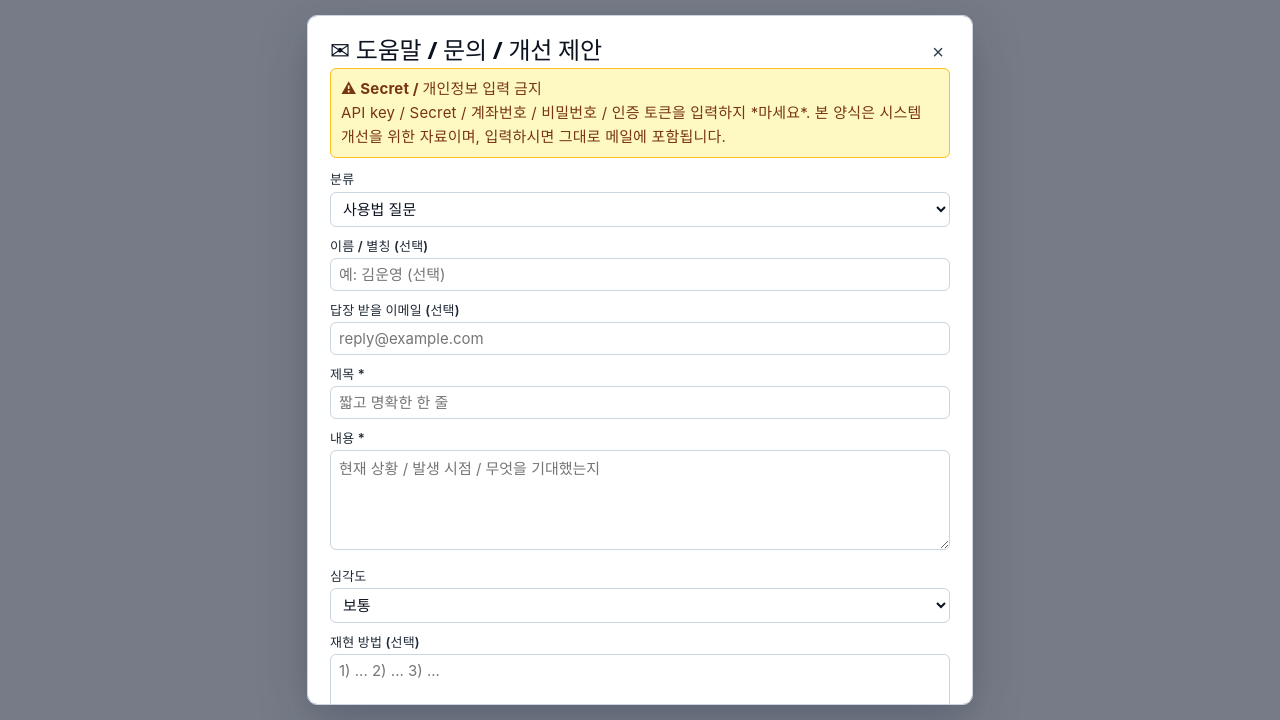
<FeedbackModal> › shows secret-detected banner when input matches secret pattern
Type "my key sk-ant-abc123def456ghi789jkl0 leaked" into the text box with test id "feedback-body" at [640, 500], box left=330, top=450, right=950, bottom=550
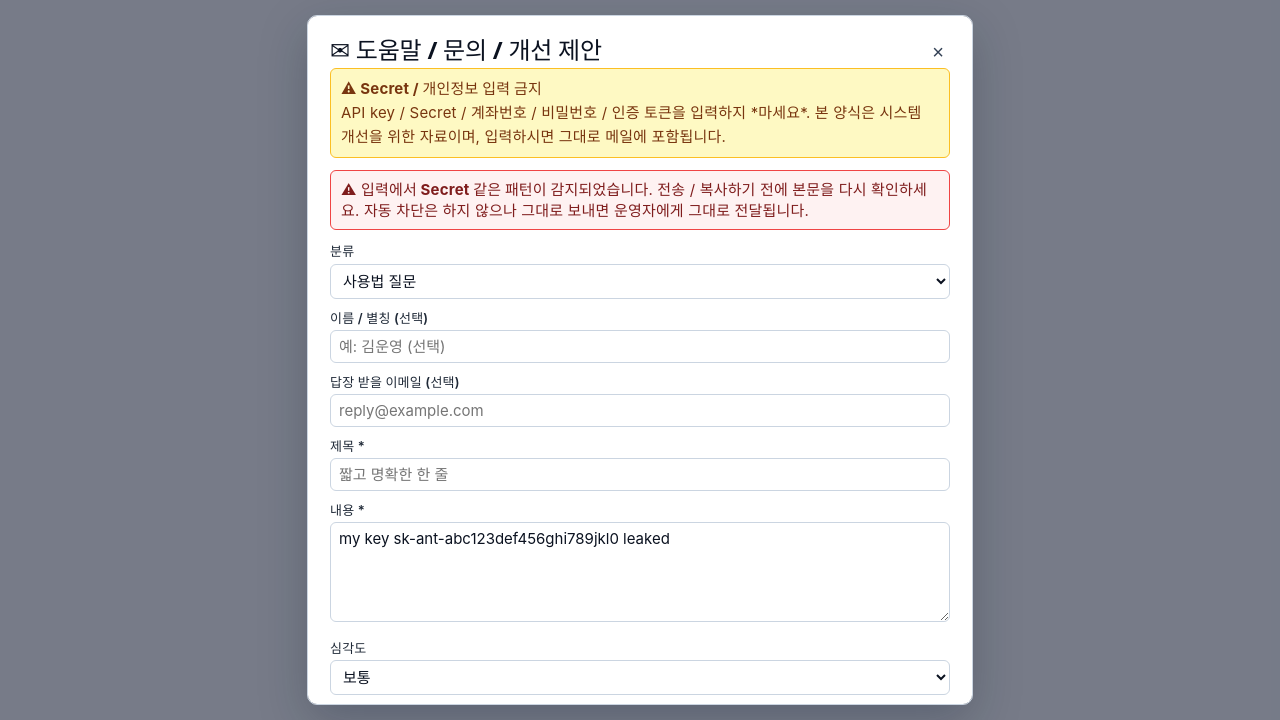
expect the element with test id "feedback-secret-detected" shows "Secret 같은 패턴이 감지되었습니다": met, box left=361, top=180, right=648, bottom=199
